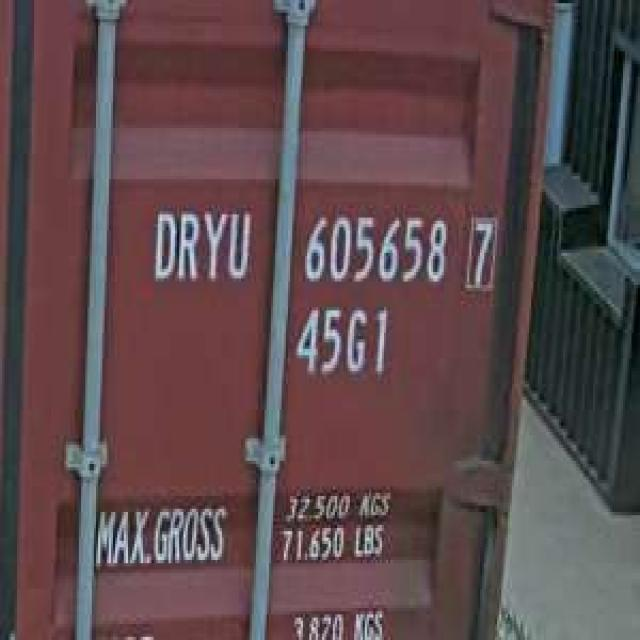dv: (461, 205, 499, 294)
owner: (147, 195, 254, 291)
serial: (299, 198, 450, 292)
size: (292, 298, 390, 384)
